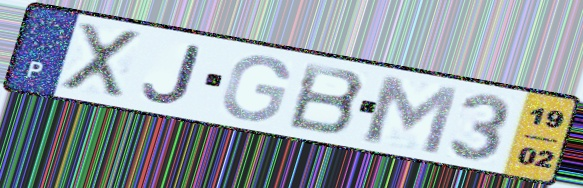3: (446, 91, 513, 163)
B: (285, 59, 369, 137)
G: (218, 52, 293, 123)
J: (140, 43, 203, 106)
M: (361, 71, 463, 157)
X: (59, 20, 144, 101)
